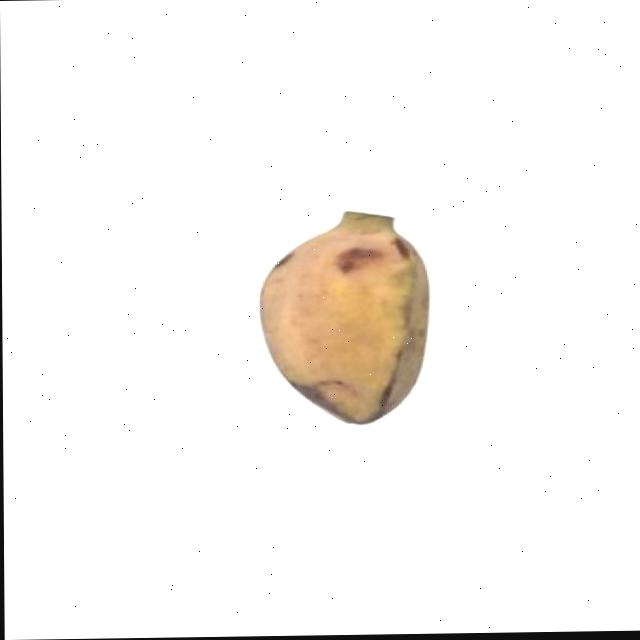banana: (251, 205, 443, 427)
